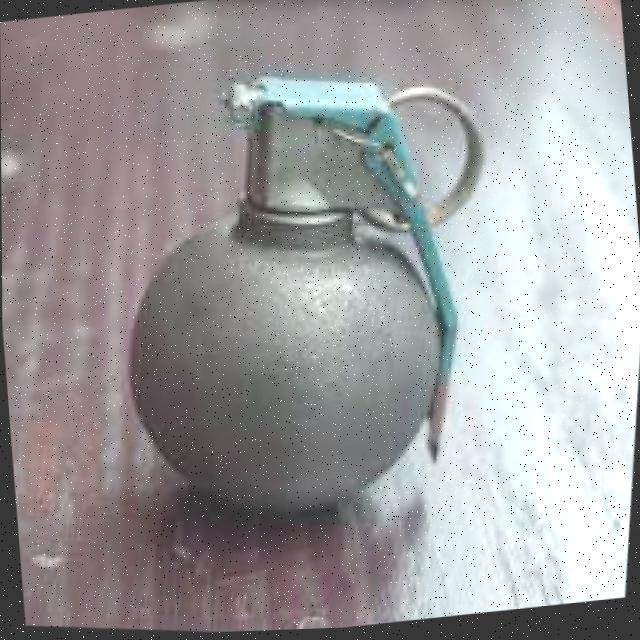grenade: (75, 24, 515, 570)
